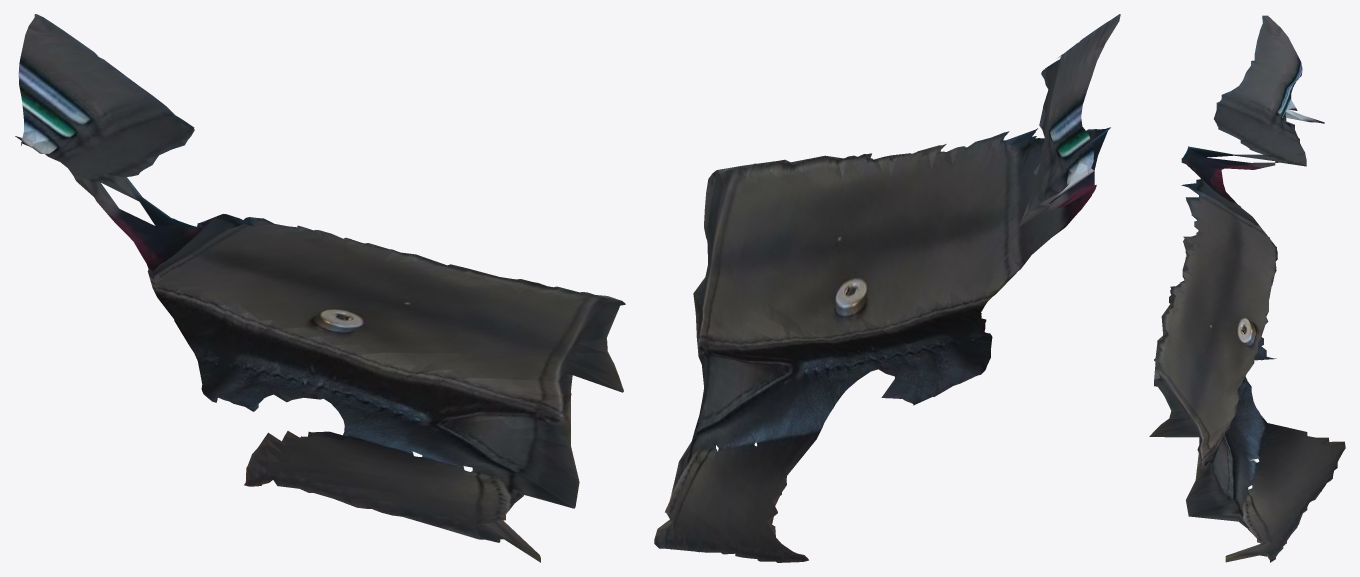
Rendered from observed-surface.glb.
3 views of the same model, side by side, from view 1: azimuth 30°, elevation 25°; view 2: azimuth 150°, elevation 25°; view 3: azimuth 270°, elevation 25° (orthographic). The views are drawn at different scales.
Visible parts, largest first — view 1: geometry_0; view 2: geometry_0; view 3: geometry_0.
Boxes of the visible parts, x1,y1,x2,y2 form: geometry_0: (15,14,625,562); geometry_0: (654,14,1120,562); geometry_0: (1149,15,1345,562).
Bounding box in the file's own units: 0.5064 × 0.6223 × 0.2728.
Materials: 1 (1 with a texture image).
